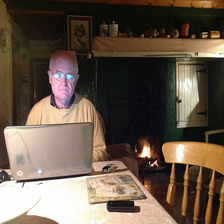laptop: (1, 114, 105, 182)
